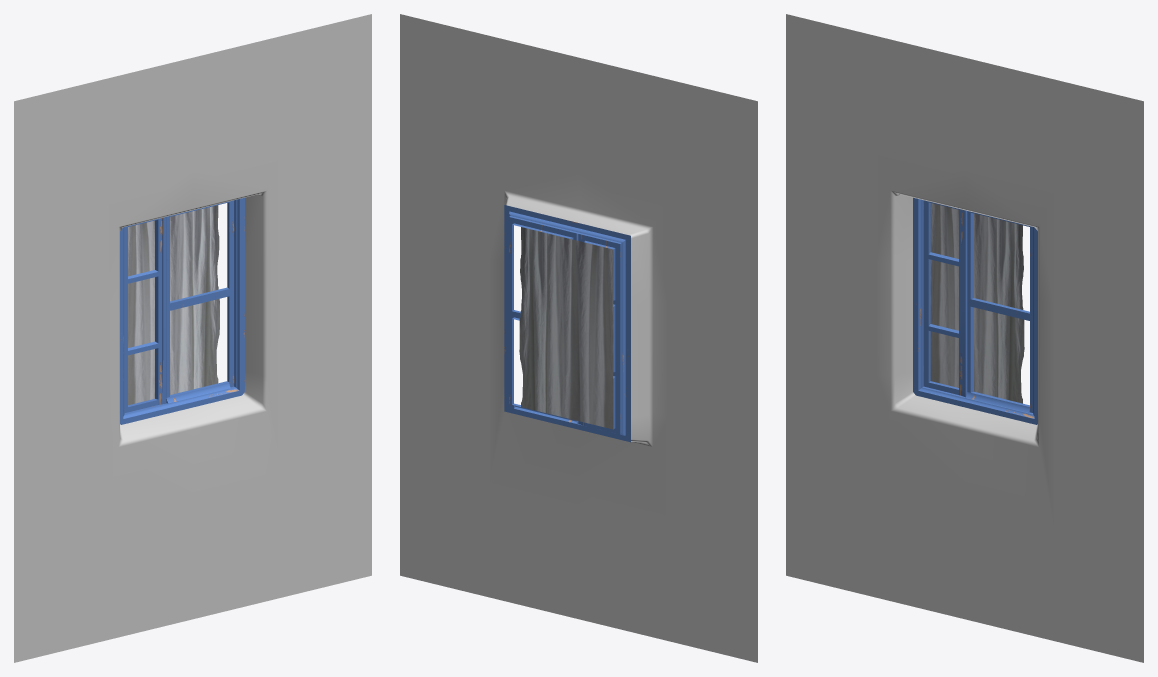
File: WallDoubleWindow.fbx
3 renders of one model, left to right at view 1: azimuth 30°, elevation 25°; view 2: azimuth 150°, elevation 25°; view 3: azimuth 330°, elevation 25°, orthographic.
Visible parts, largest first — view 1: WallDoubleWindow; view 2: WallDoubleWindow; view 3: WallDoubleWindow.
Part boxes in pixels (bbox=[...]): WallDoubleWindow: bbox=[14, 14, 371, 662]; WallDoubleWindow: bbox=[400, 14, 757, 662]; WallDoubleWindow: bbox=[786, 14, 1143, 662].
Size of the model in its own units: 200 by 300 by 15.73.
3 materials, 2 textured.
